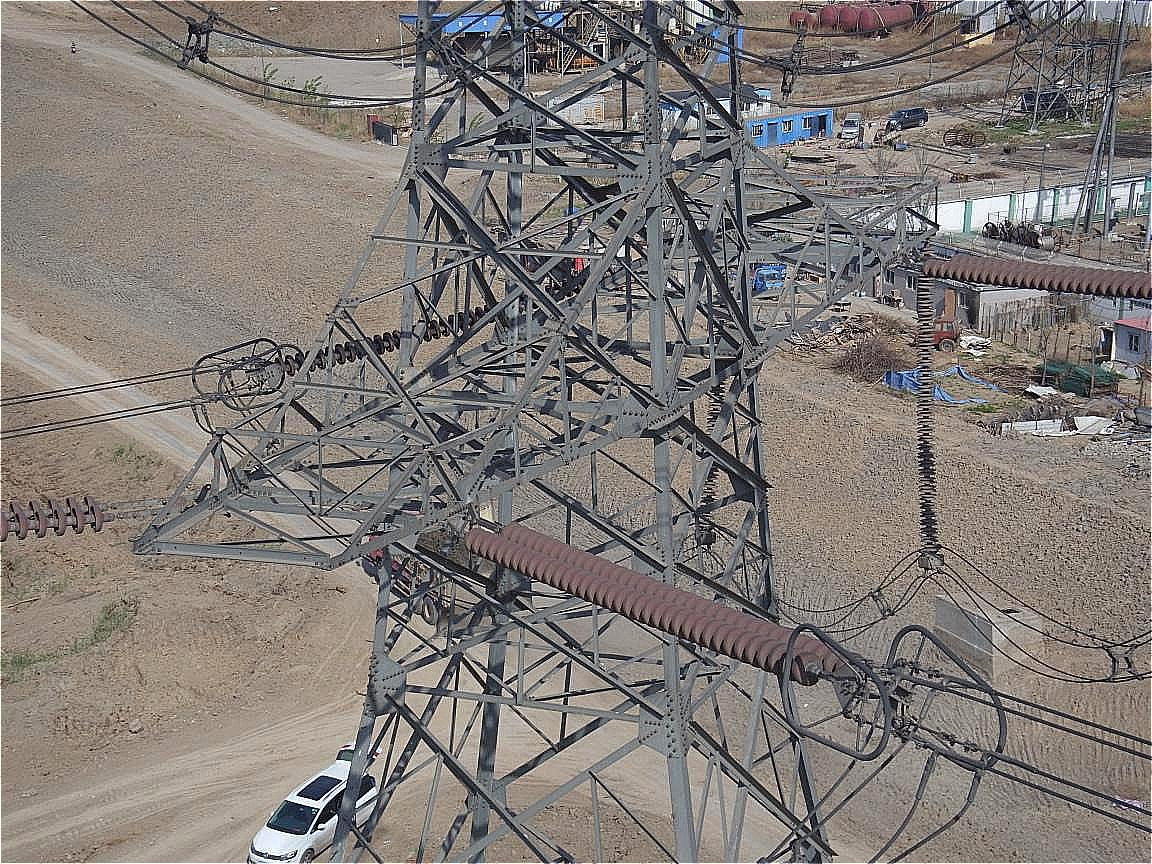insultor1: (466, 522, 860, 686)
